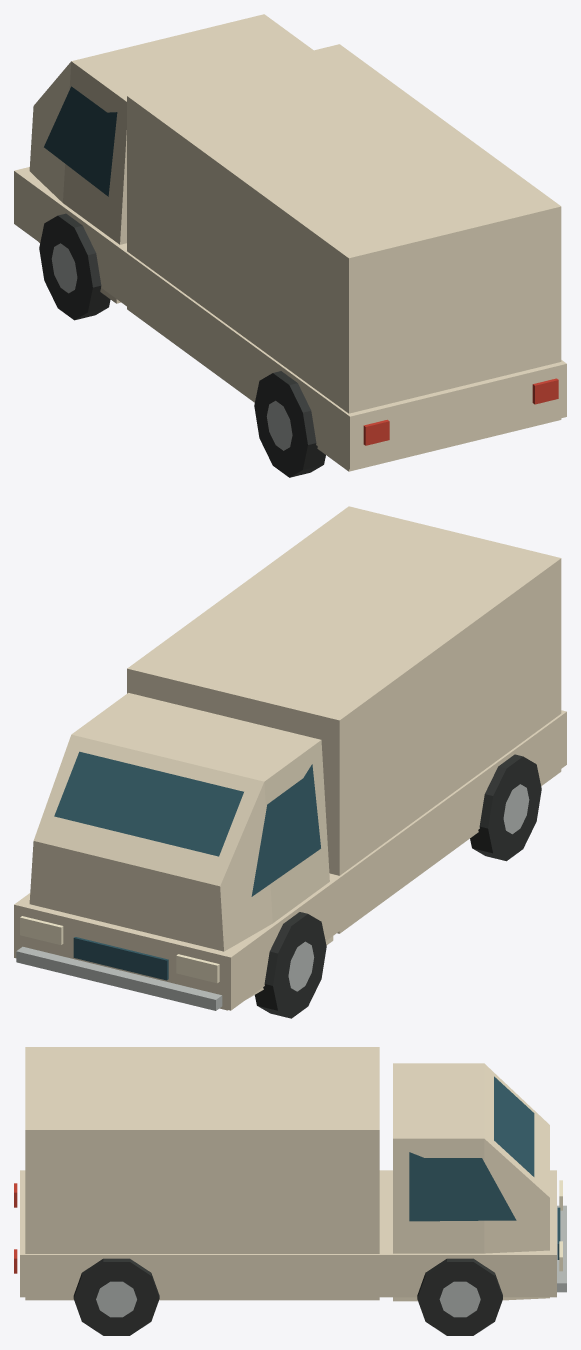
The model's file is van.glb.
3 renders of one model, top to bottom at view 1: azimuth 30°, elevation 25°; view 2: azimuth 150°, elevation 25°; view 3: azimuth 270°, elevation 25°, orthographic. The views are drawn at different scales.
Parts seen in each view (by area): view 1: VanModel traffic_cream, VanModel traffic_rubber, VanModel traffic_glass, VanModel traffic_metal, VanModel traffic_red; view 2: VanModel traffic_cream, VanModel traffic_glass, VanModel traffic_rubber, VanModel traffic_metal, VanModel traffic_light; view 3: VanModel traffic_cream, VanModel traffic_glass, VanModel traffic_rubber, VanModel traffic_metal.
Part boxes in pixels (x1,y1,x2,y2): VanModel traffic_cream: [14, 14, 566, 471]; VanModel traffic_rubber: [39, 213, 325, 477]; VanModel traffic_glass: [44, 86, 117, 196]; VanModel traffic_metal: [51, 243, 292, 450]; VanModel traffic_red: [363, 378, 558, 445]; VanModel traffic_cream: [14, 506, 566, 1010]; VanModel traffic_glass: [54, 751, 320, 980]; VanModel traffic_rubber: [254, 754, 541, 1018]; VanModel traffic_metal: [16, 784, 529, 1010]; VanModel traffic_light: [20, 916, 219, 983]; VanModel traffic_cream: [20, 1047, 556, 1301]; VanModel traffic_glass: [409, 1076, 560, 1259]; VanModel traffic_rubber: [73, 1258, 502, 1335]; VanModel traffic_metal: [96, 1205, 566, 1317].
Bounding box in the file's own units: 2.24 × 2.28 × 5.67.
